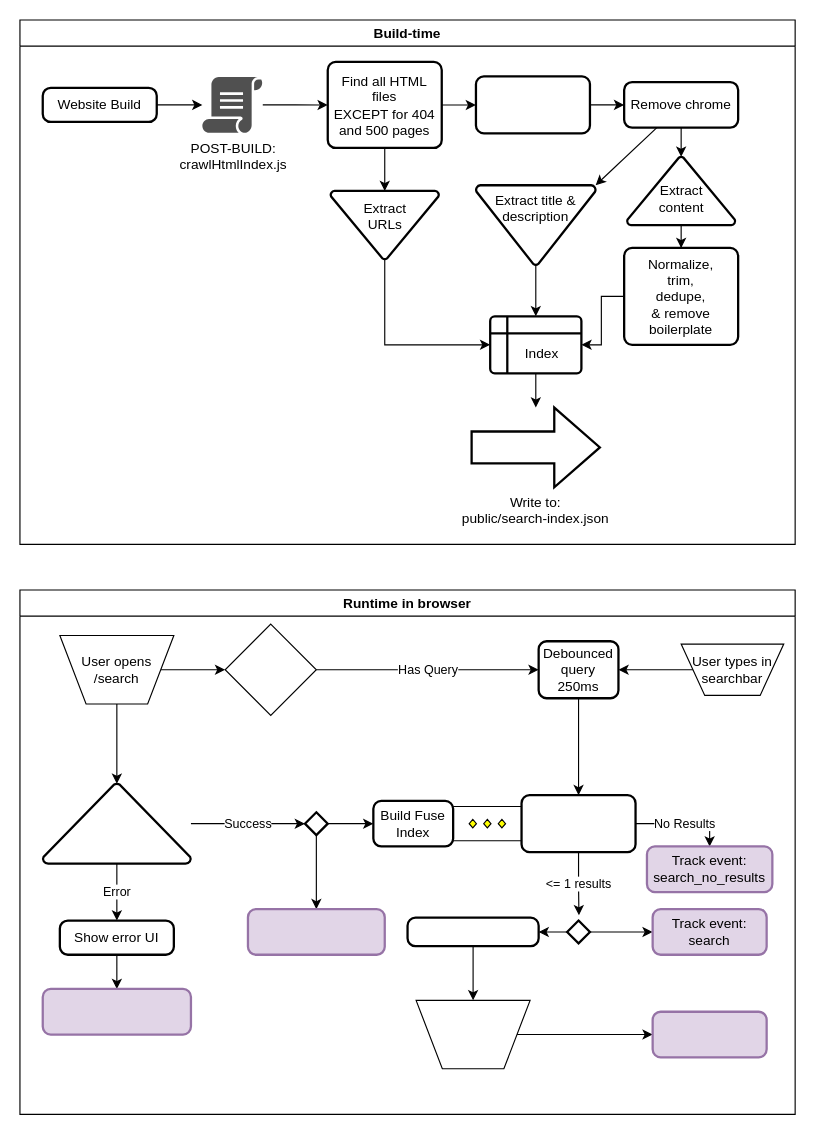
Some shapes in this 815 by 1134 pixel diagram are drawn without their labels. Each missing label, with the centre of its shape:
Check URL: the point at 270,669
fetch /search-index.json: the point at 116,823
Parse HTML with Cheerio: the point at 532,104
Render results list: the point at 472,931
Run Fuse search: the point at 578,823
Track event: search_click: the point at 709,1034
Track event: search_index_error: the point at 116,1011
Track event: search_index_load: the point at 315,931
User clicks a result: the point at 472,1034
